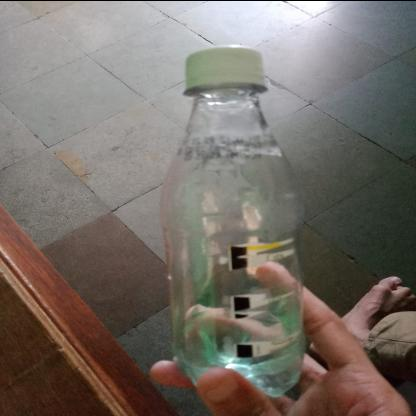bottle: (57, 81, 416, 194)
